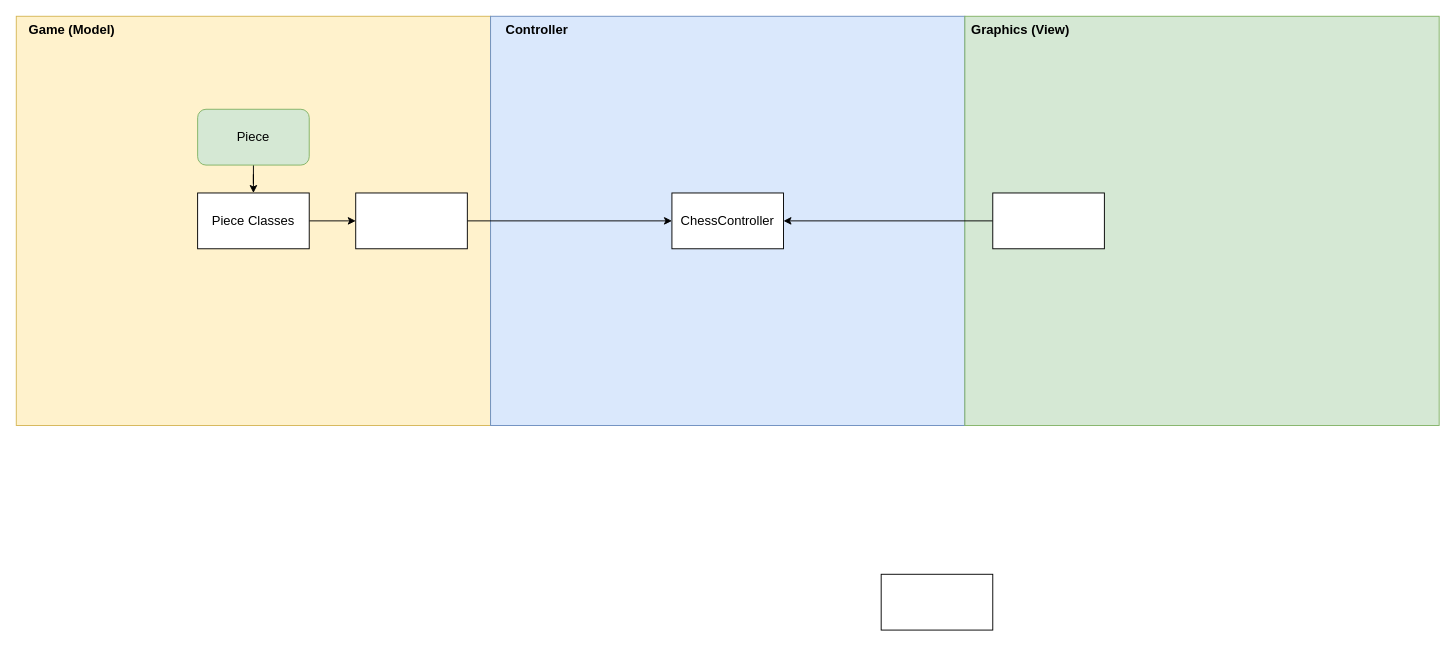
This 1455x646 diagram has some shape labels left out. The shapes that lost their labels are listed below. From the top down, each one's box as (x1, y1, x2, y2) in pixels, then its label:
(355, 192, 467, 249): Board
(992, 192, 1104, 249): BoardView
